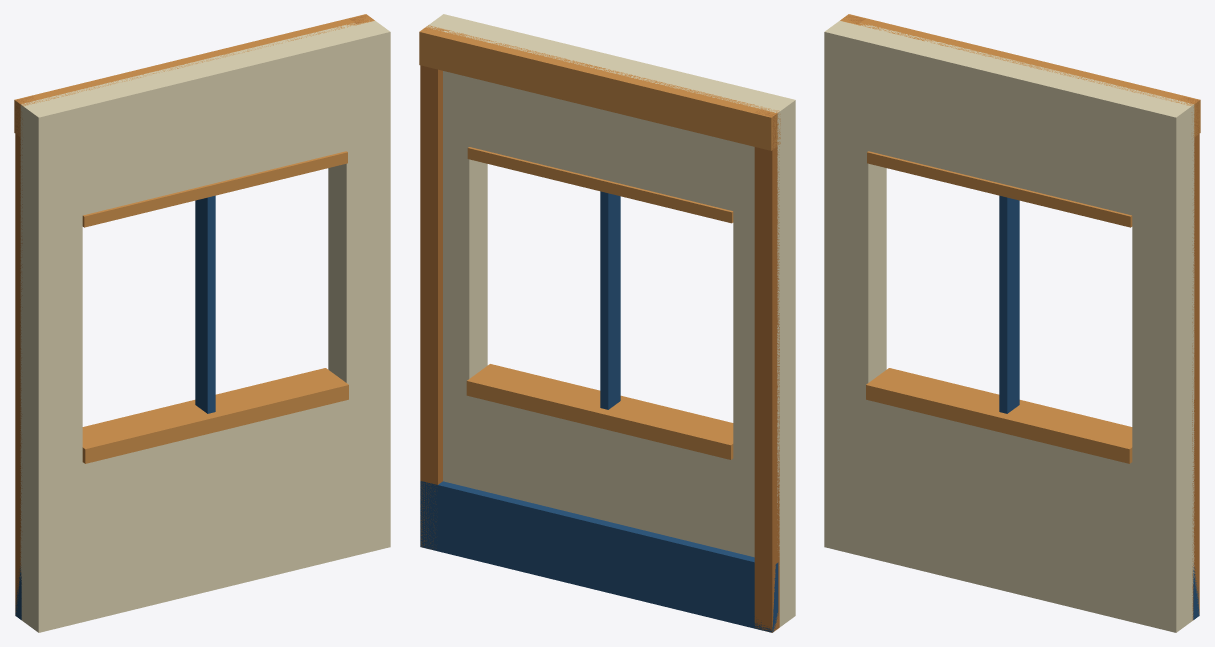
File: window.glb
The picture shows the model from 3 angles, left to right: view 1: azimuth 30°, elevation 25°; view 2: azimuth 150°, elevation 25°; view 3: azimuth 330°, elevation 25°; orthographic projection.
Visible parts, largest first — view 1: Shared_window; view 2: Shared_window; view 3: Shared_window.
Part boxes in pixels (box(x1,y1,x2,y2)): Shared_window: box(14, 14, 390, 632); Shared_window: box(419, 14, 795, 632); Shared_window: box(824, 14, 1200, 632).
Size of the model in its own units: 2 by 2.8 by 0.265.
